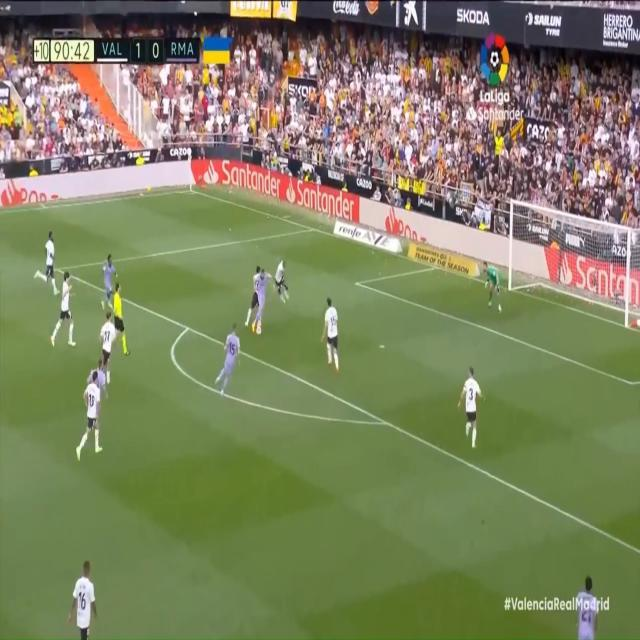ball: (254, 322, 264, 340)
goalkeeper: (477, 254, 503, 315)
player: (64, 545, 96, 640), (460, 360, 487, 448), (49, 265, 76, 351), (213, 322, 241, 399), (79, 368, 100, 461), (319, 294, 340, 373), (99, 245, 121, 315), (34, 230, 58, 293), (91, 354, 109, 433), (255, 265, 272, 325), (247, 260, 262, 328), (277, 254, 291, 308)
referee: (110, 279, 132, 363)
